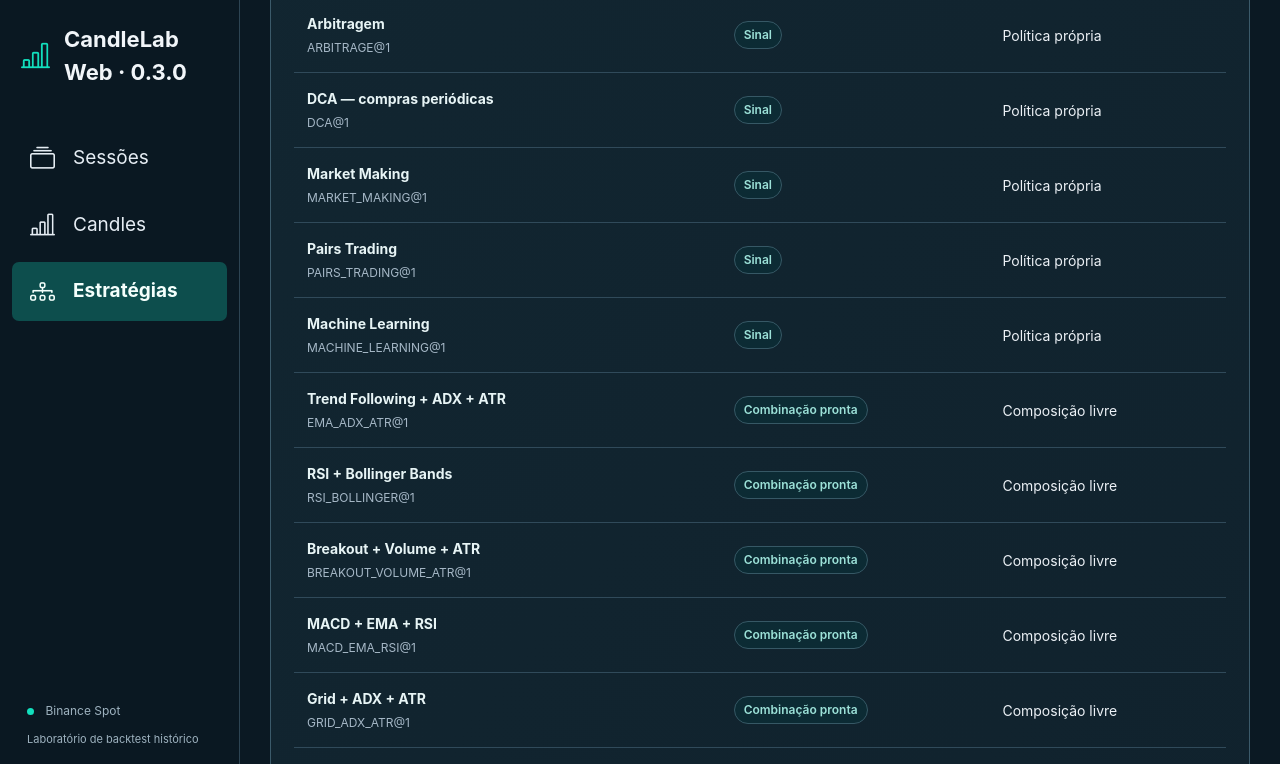
abre detalhes pela lista e navega para os componentes da receita
(page scrolled)
Click the link "Trend Following + ADX + ATR".
click(406, 399)  # box x1=307 y1=390 x2=506 y2=407
(page scrolled)
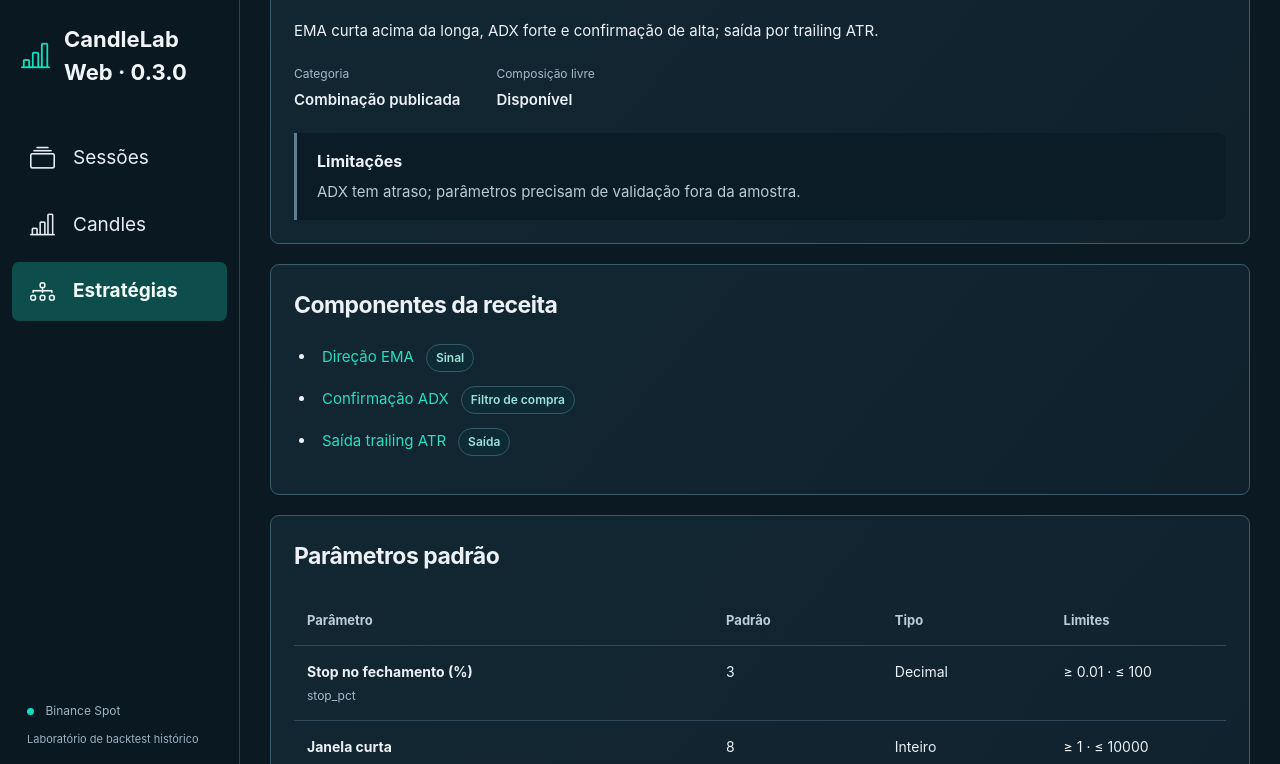
Expected: the number of list items is 3, x1=322 y1=344 x2=474 y2=372; x1=322 y1=386 x2=575 y2=414; x1=322 y1=428 x2=510 y2=456
Click the link "Confirmação ADX".
click(385, 399)  # box x1=322 y1=389 x2=449 y2=408
(page scrolled)
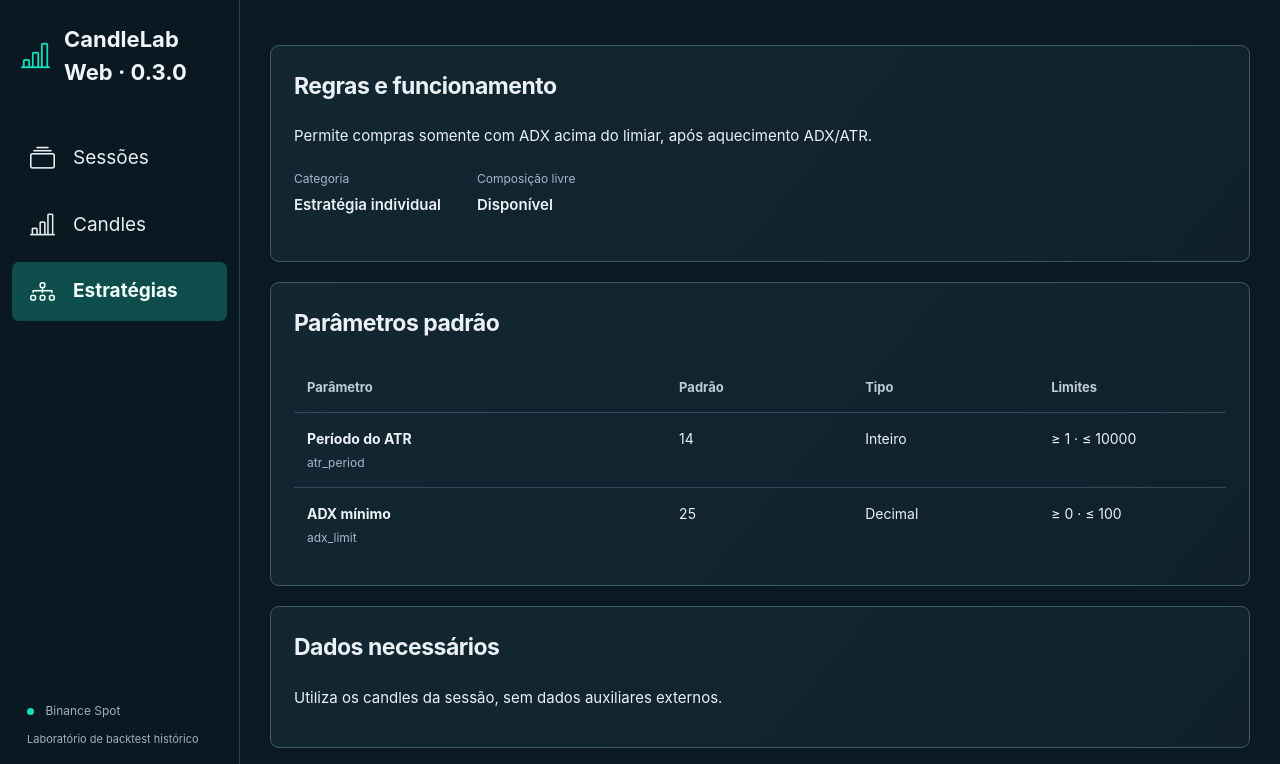
Expected: the element "Parâmetros padrão" shows "ADX mínimo", x1=307 y1=505 x2=391 y2=522
